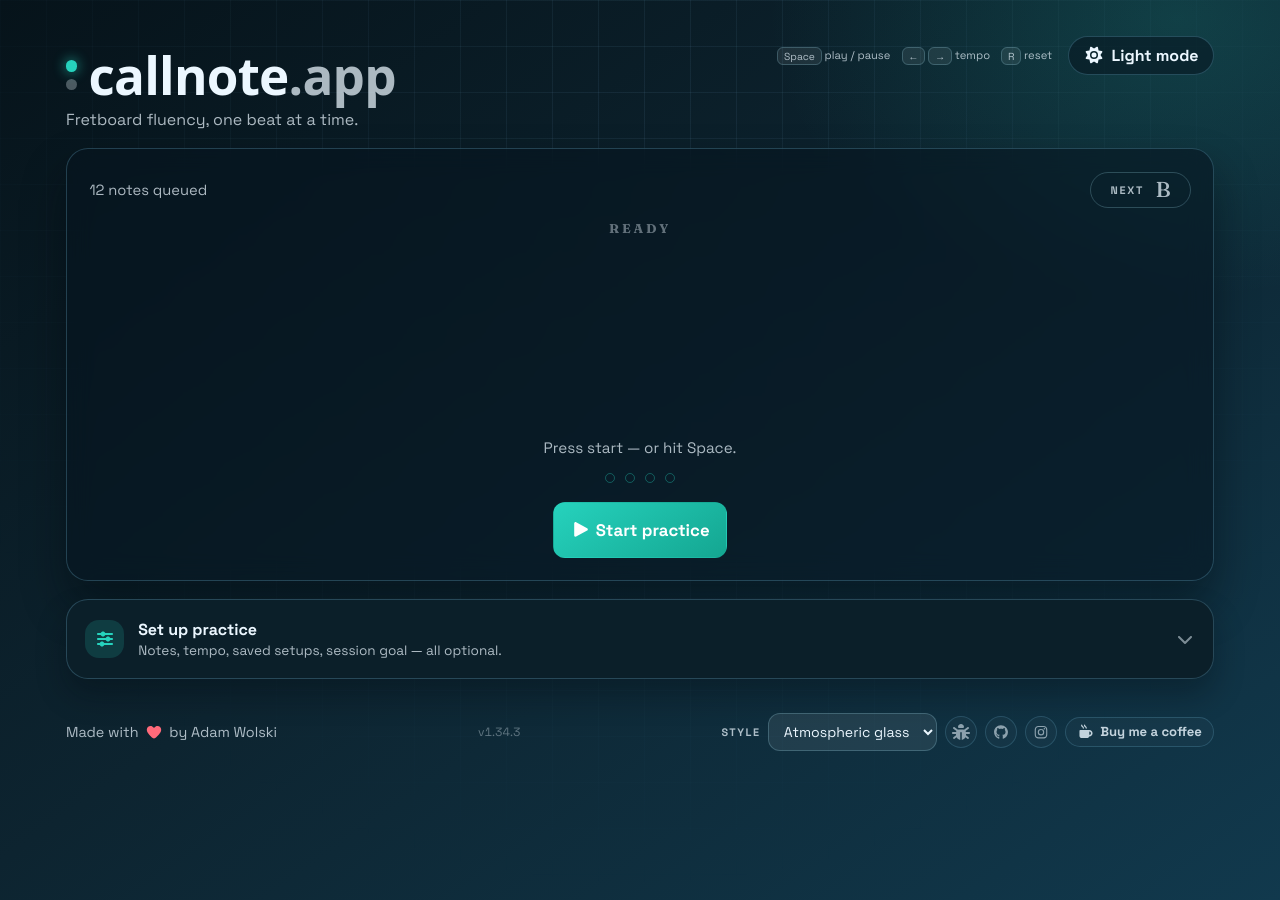
Test: App integration › still renders the idle state when localStorage is blocked
Expected: the text with test id "playback-message" reads "Press start — or hit Space.", [544,438,736,456]
Expected: the button with test id "play-toggle" reads "Start practice", [553,502,727,558]
Click the button with test id "setup-reveal" at (105, 639), box [66,599,1214,679]
(page scrolled)
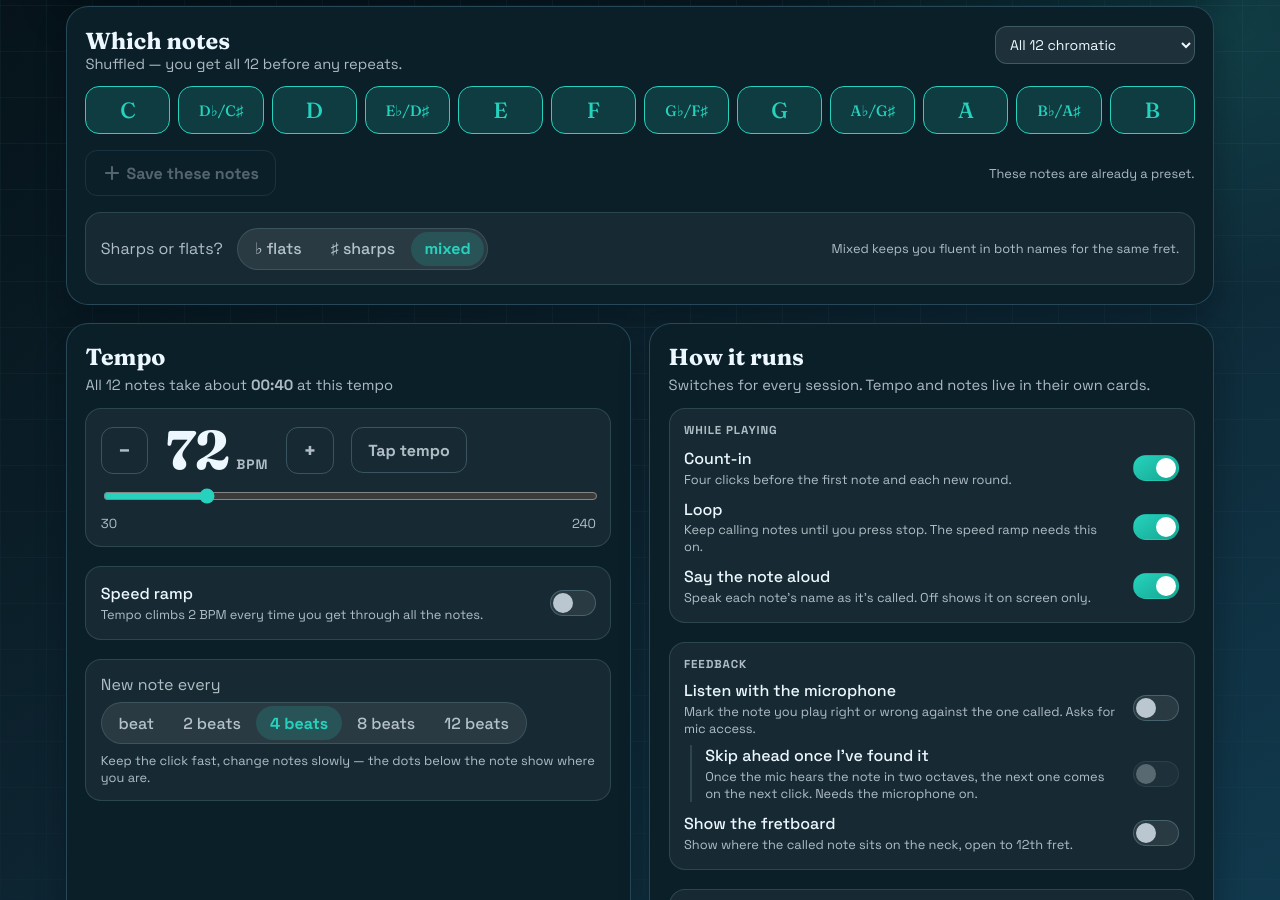
Now the text with test id "bpm-value" reads "72", box [166,416,230,483]
